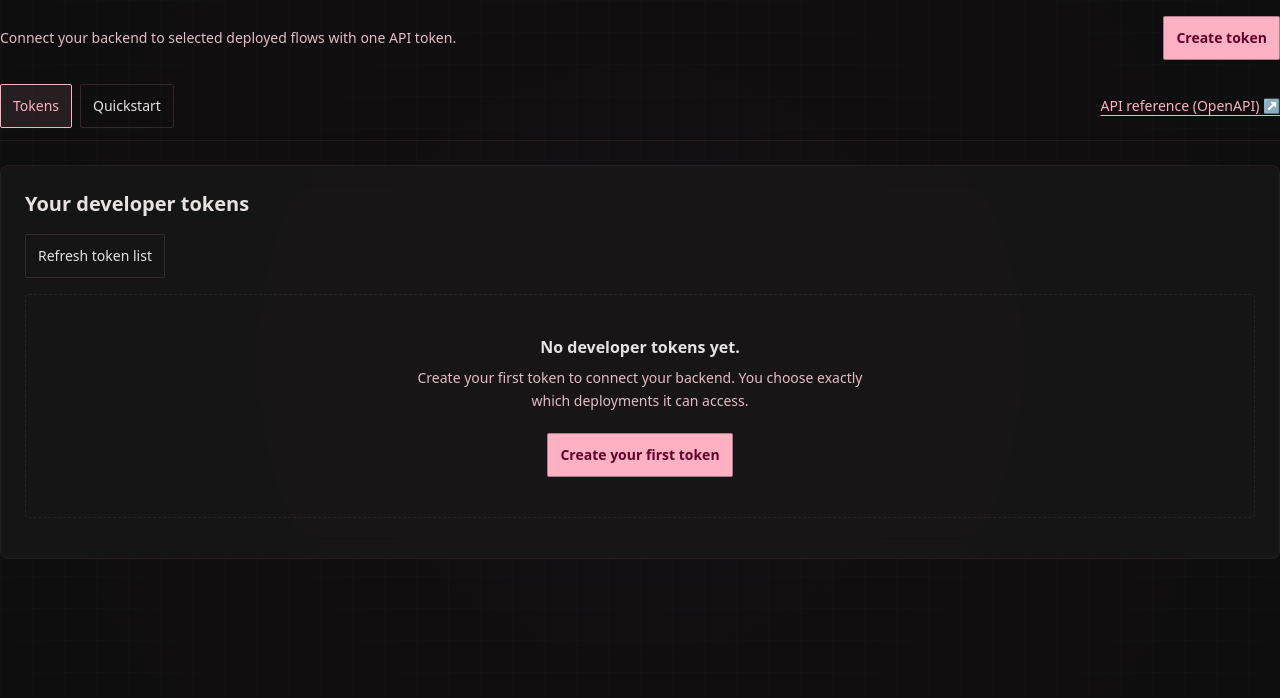
Test case: developer token management › searches beyond the loaded page, resets pagination and preserves explicit selections
Expected: the button "Refresh token list" is shown, [25,234,165,278]
Click the button "Create token".
click(1222, 38)  # box [1163,16,1279,60]
(page scrolled)
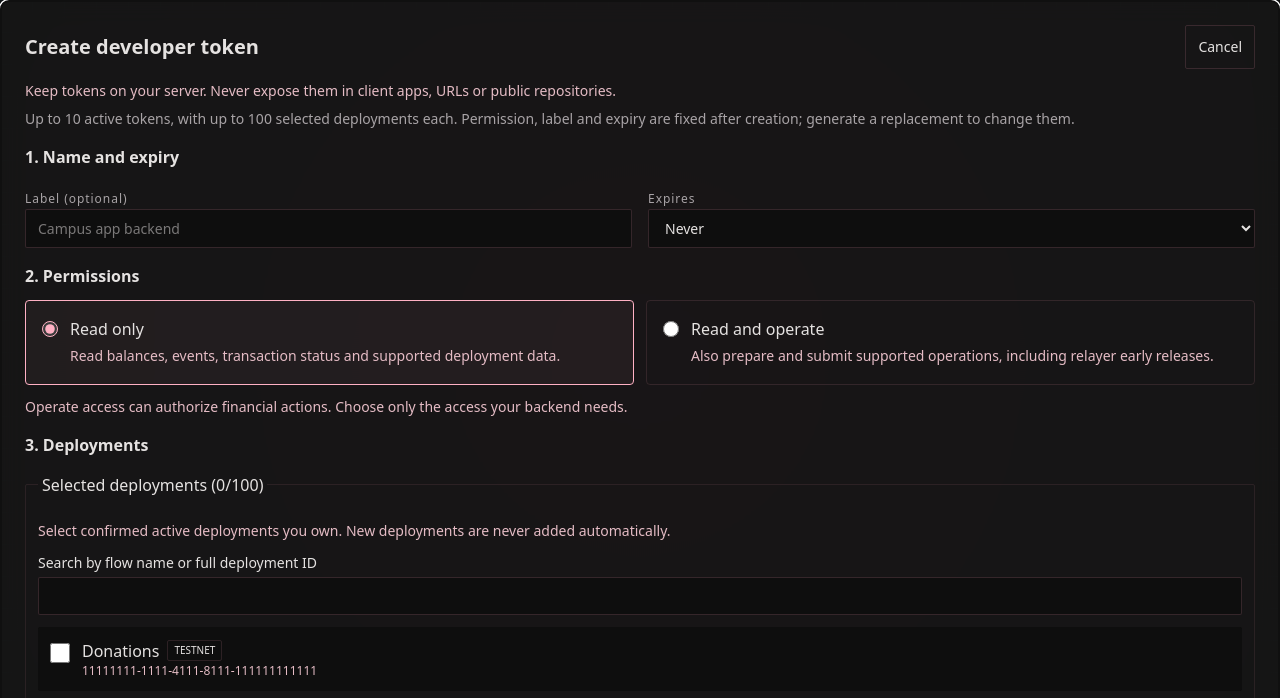
Now the checkbox labelled "Donations testnet 11111111-1111-4111-8111-111111111111" is shown
Click the checkbox labelled "Donations testnet 11111111-1111-4111-8111-111111111111".
click(60, 653)  # box [50,643,70,663]
(page scrolled)
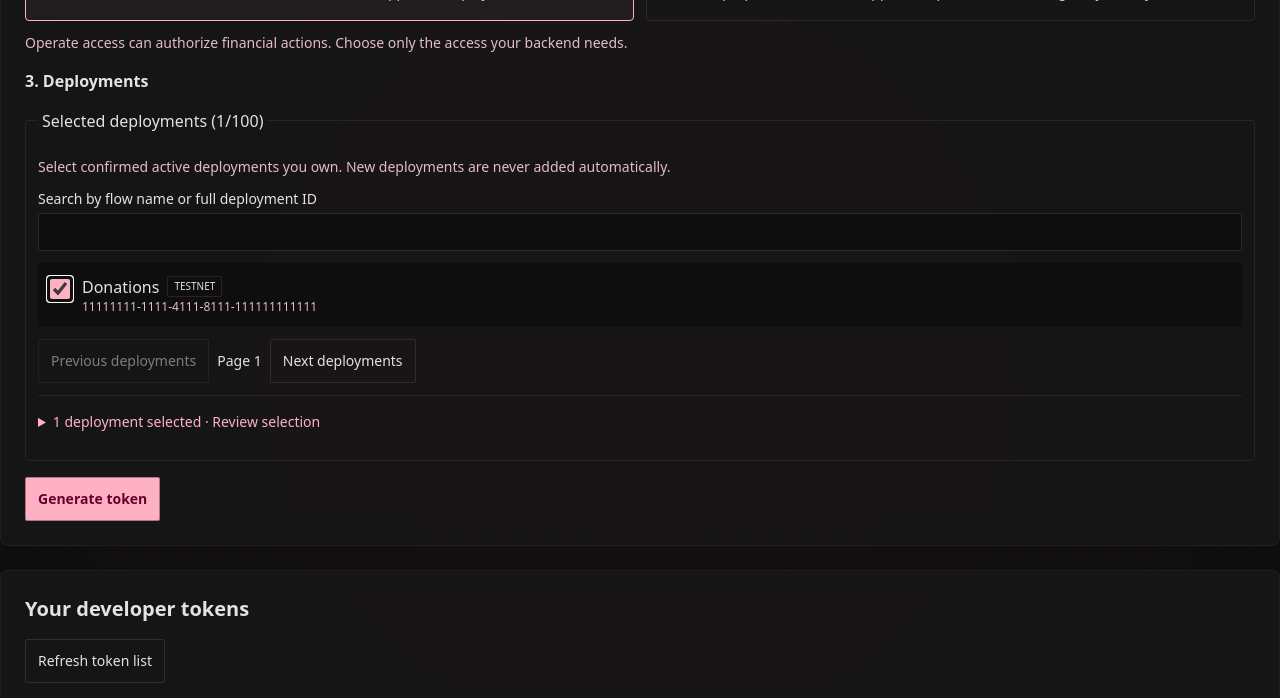
Click the button "Next deployments".
click(343, 361)  # box [270,339,416,383]
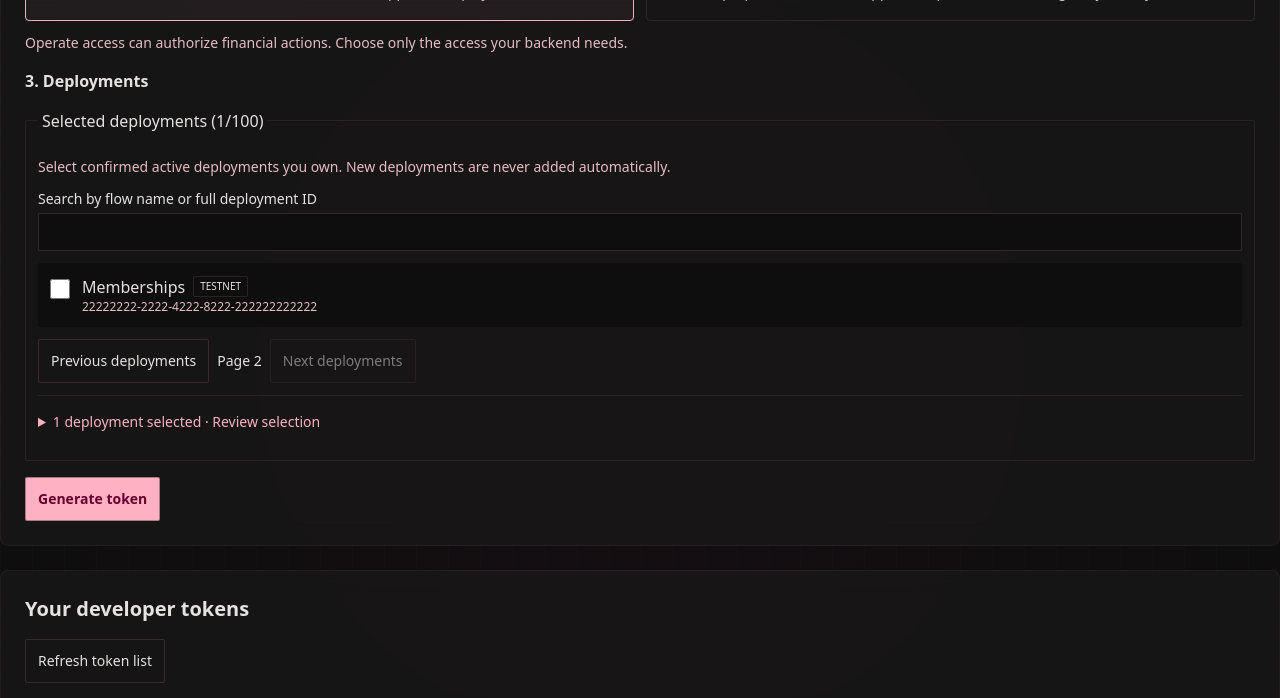
Now the checkbox labelled "Memberships testnet 22222222-2222-4222-8222-222222222222" is shown, box [50,279,70,299]
Type "Memberships" into the search field.
click(640, 232); type("Memberships")  # box [38,213,1242,251]
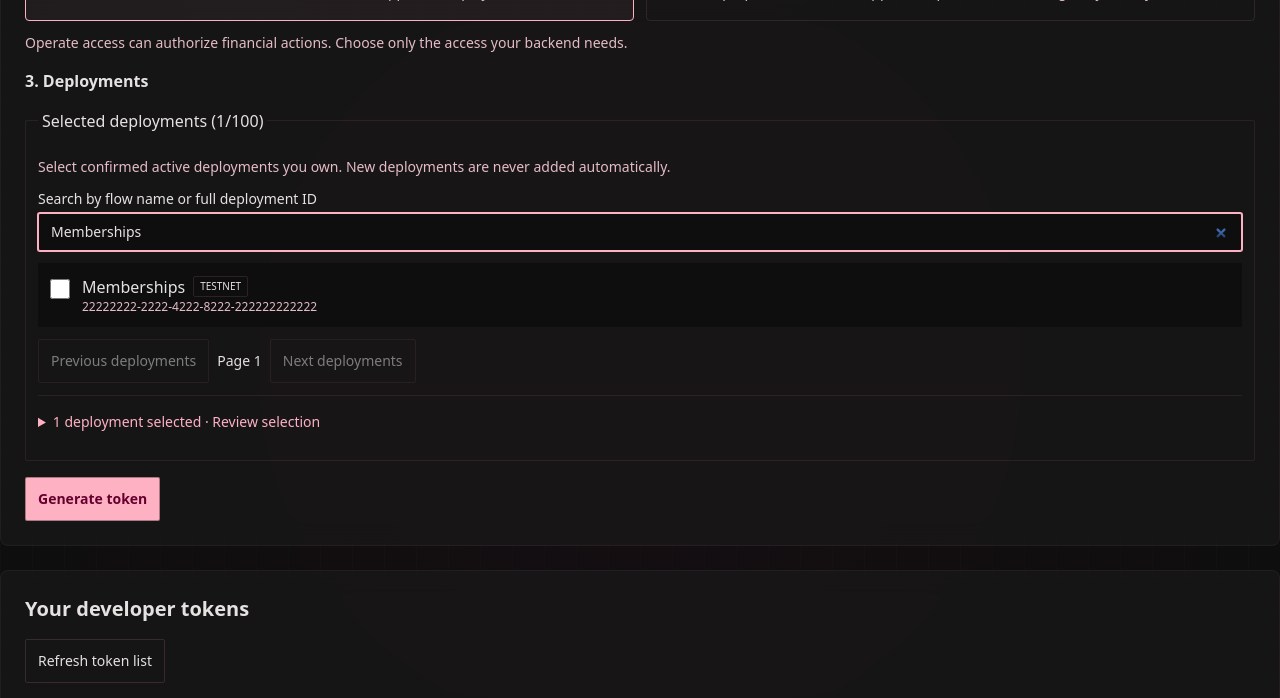
Now the text "Page 1" is shown, box [217,351,262,371]
Click the checkbox labelled "Memberships testnet 22222222-2222-4222-8222-222222222222".
click(60, 289)  # box [50,279,70,299]
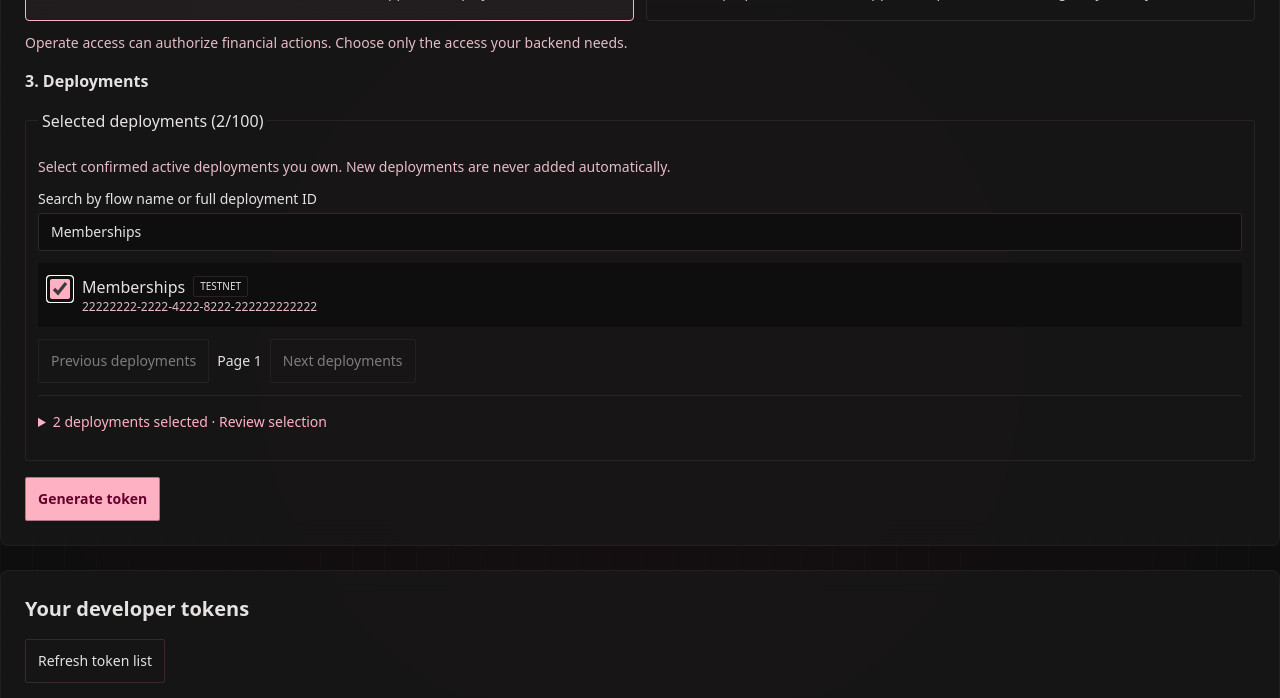
Click the button "Generate token".
click(93, 499)  # box [25,477,160,521]
(page scrolled)
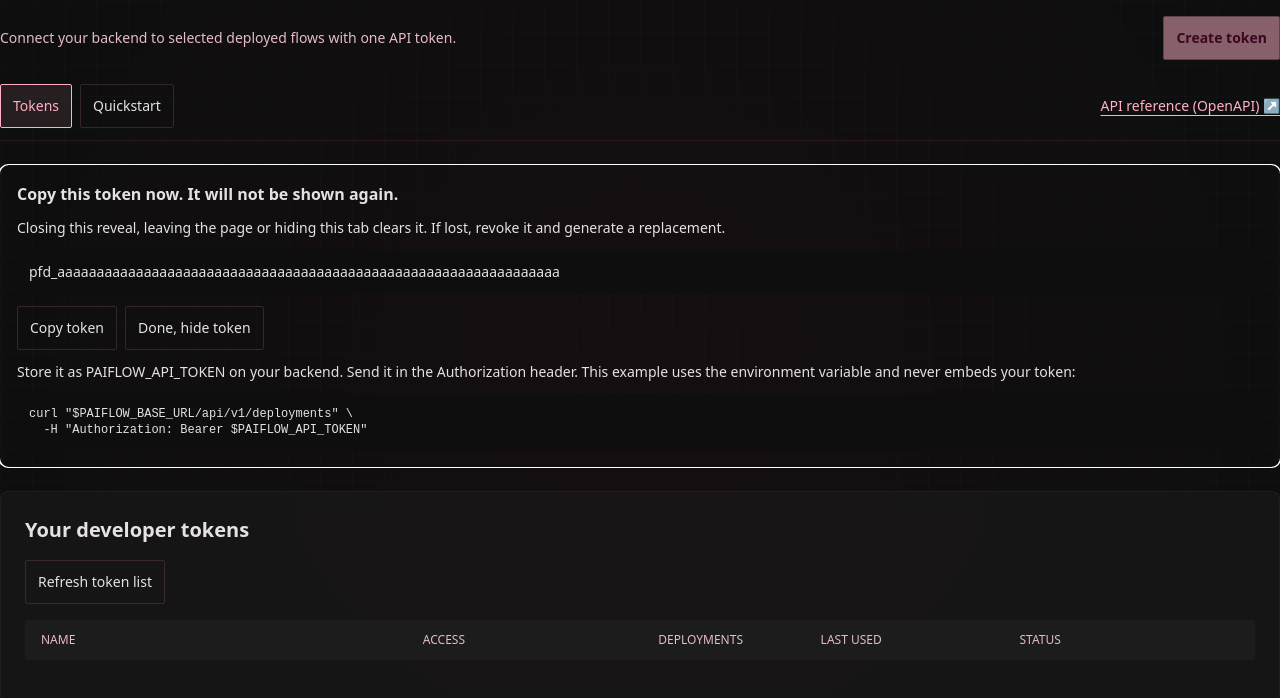
Now the element with test id "developer-token-reveal" is shown, box [0,165,1279,467]
